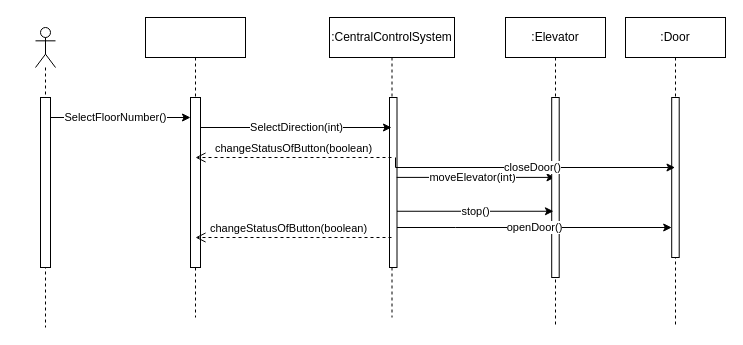
Some shapes in this 743 by 345 pixel diagram are drawn without their labels. Each missing label, with the box of its shape:
:internalButton: (144, 16, 246, 318)
Passenger: (34, 26, 56, 328)
